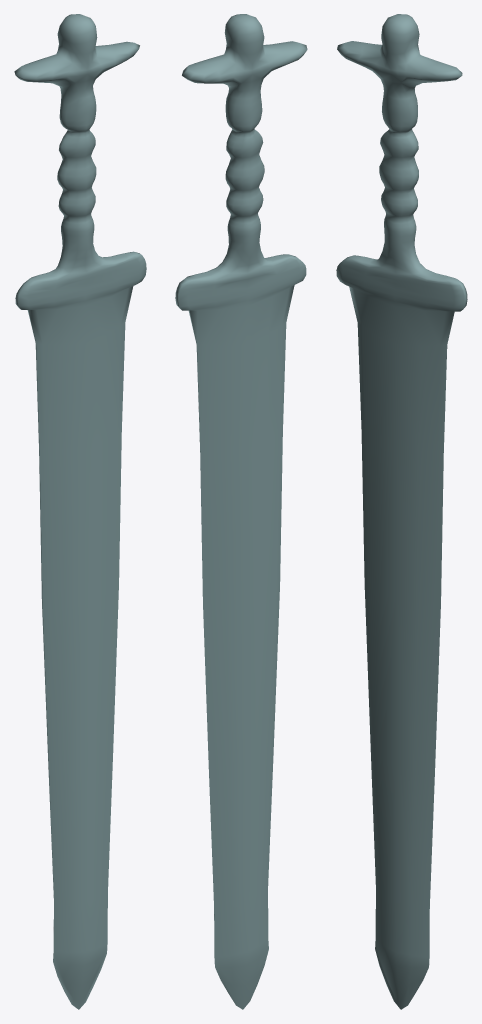
File: celticswordUDP.fbx
3 renders of one model, left to right at view 1: azimuth 30°, elevation 25°; view 2: azimuth 210°, elevation 25°; view 3: azimuth 330°, elevation 25°, orthographic.
Parts seen in each view (by area): view 1: celtic sword smooth; view 2: celtic sword smooth; view 3: celtic sword smooth.
Part boxes in pixels (x1,y1,x2,y2): celtic sword smooth: (14,14,146,1009); celtic sword smooth: (175,14,307,1009); celtic sword smooth: (336,14,467,1009).
Bounding box in the file's own units: 123 × 903 × 34.54.
